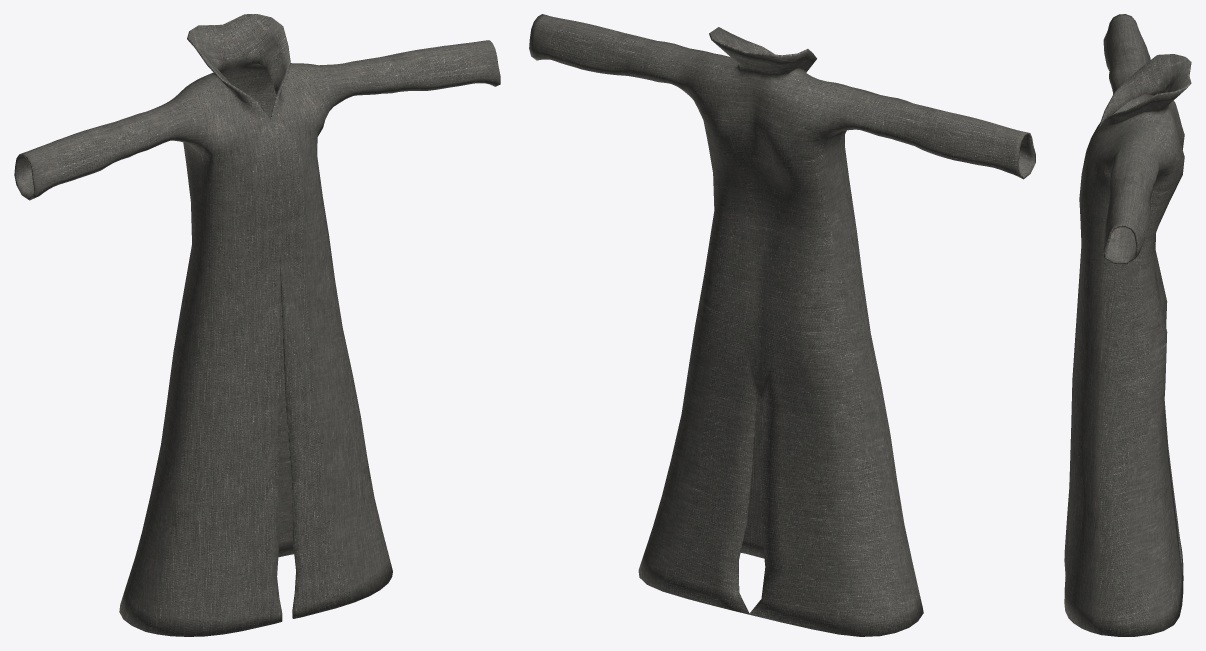
The model's file is linen_robe.glb.
3 renders of one model, left to right at view 1: azimuth 30°, elevation 25°; view 2: azimuth 150°, elevation 25°; view 3: azimuth 270°, elevation 25°, orthographic. The views are drawn at different scales.
Visible parts, largest first — view 1: linen_robe_export; view 2: linen_robe_export; view 3: linen_robe_export.
Boxes of the visible parts, box(x1,y1,x2,y2) form: linen_robe_export: box(14, 14, 500, 636); linen_robe_export: box(529, 14, 1035, 636); linen_robe_export: box(1064, 14, 1191, 636).
Bounding box in the file's own units: 1.01 × 1.14 × 0.2562.
Materials: 1 (1 with a texture image).
